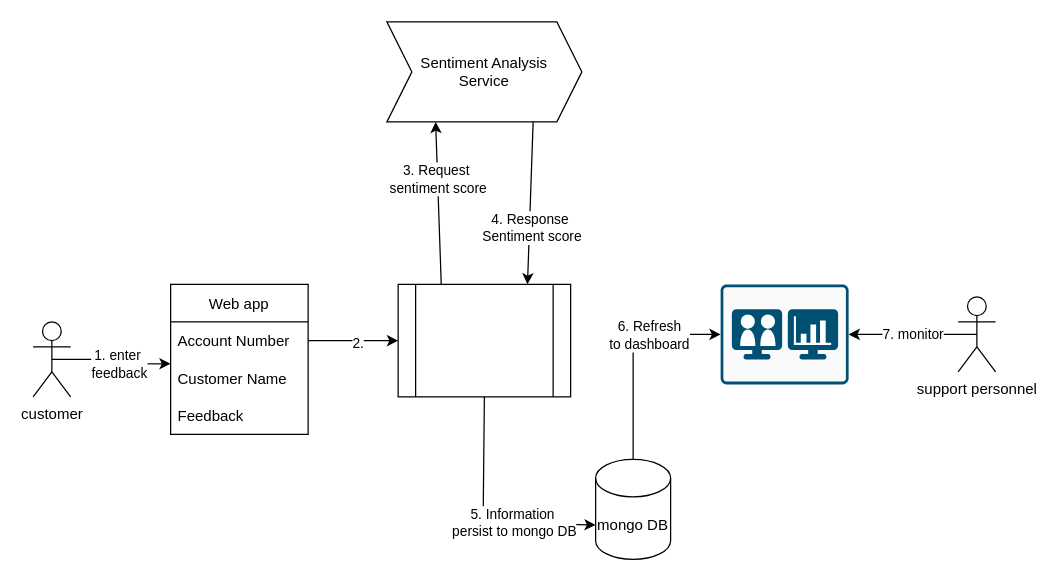
Image size: 1059x581. Some labels were removed from this diagram. The shapes that lost their labels are listed below. From the top down, each one's centre as x and y in pixels, then its label:
At (484,340): "Feedback service".
At (784,333): "dashboard".
